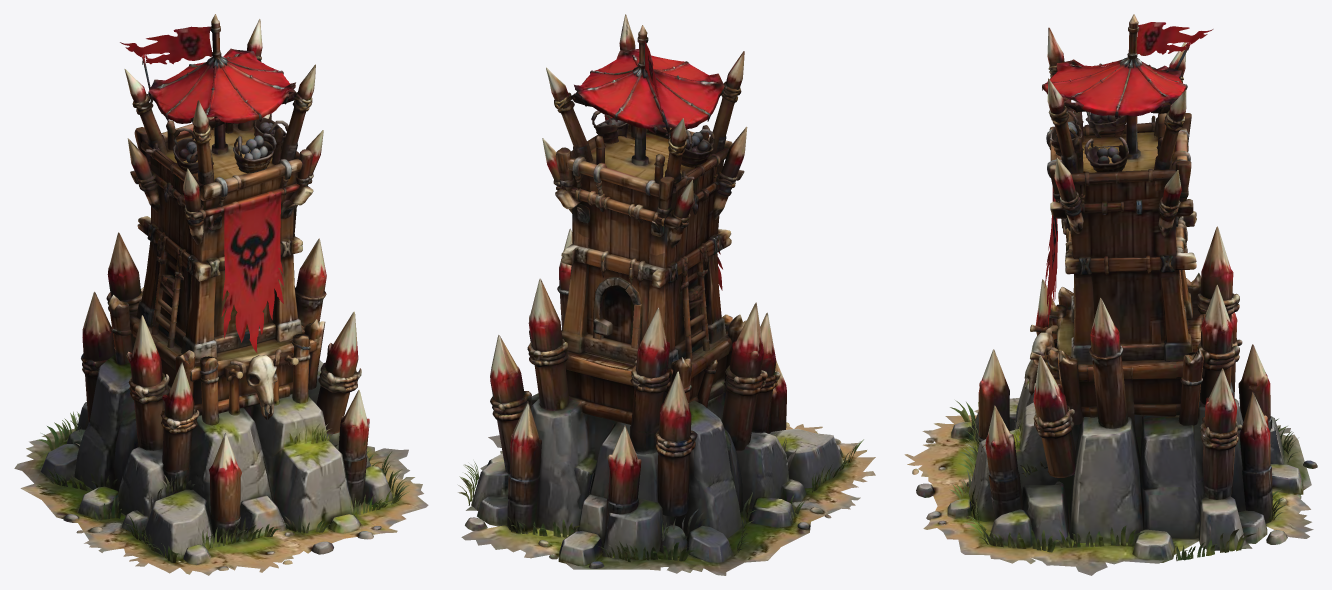
File: siegetower.glb
3 renders of one model, left to right at view 1: azimuth 30°, elevation 25°; view 2: azimuth 150°, elevation 25°; view 3: azimuth 270°, elevation 25°, orthographic. The views are drawn at different scales.
Parts seen in each view (by area): view 1: tripo_node_cf983dfa; view 2: tripo_node_cf983dfa; view 3: tripo_node_cf983dfa.
Part boxes in pixels (x1,y1,x2,y2): tripo_node_cf983dfa: (14, 14, 428, 575); tripo_node_cf983dfa: (458, 14, 875, 575); tripo_node_cf983dfa: (904, 14, 1317, 575).
Bounding box in the file's own units: 1.53 × 2 × 1.56.
1 material, 1 textured.
